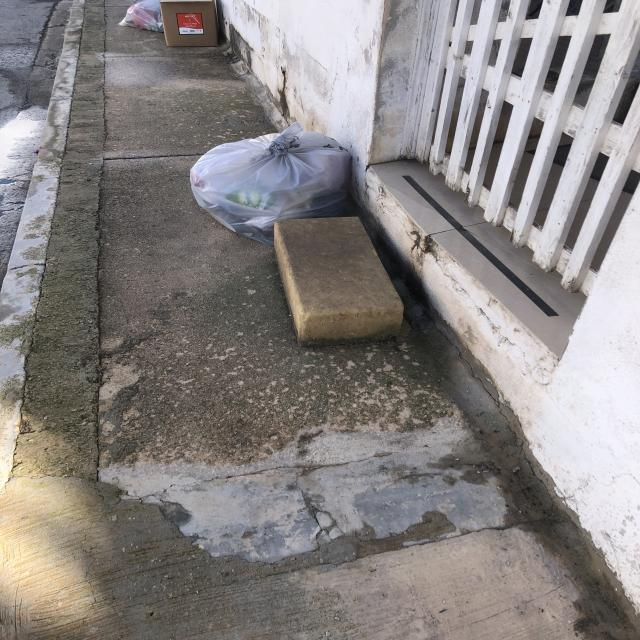Other: (161, 1, 221, 49)
Recycled Waste -Grey or Green Bag-: (190, 122, 353, 246), (119, 1, 165, 33)
